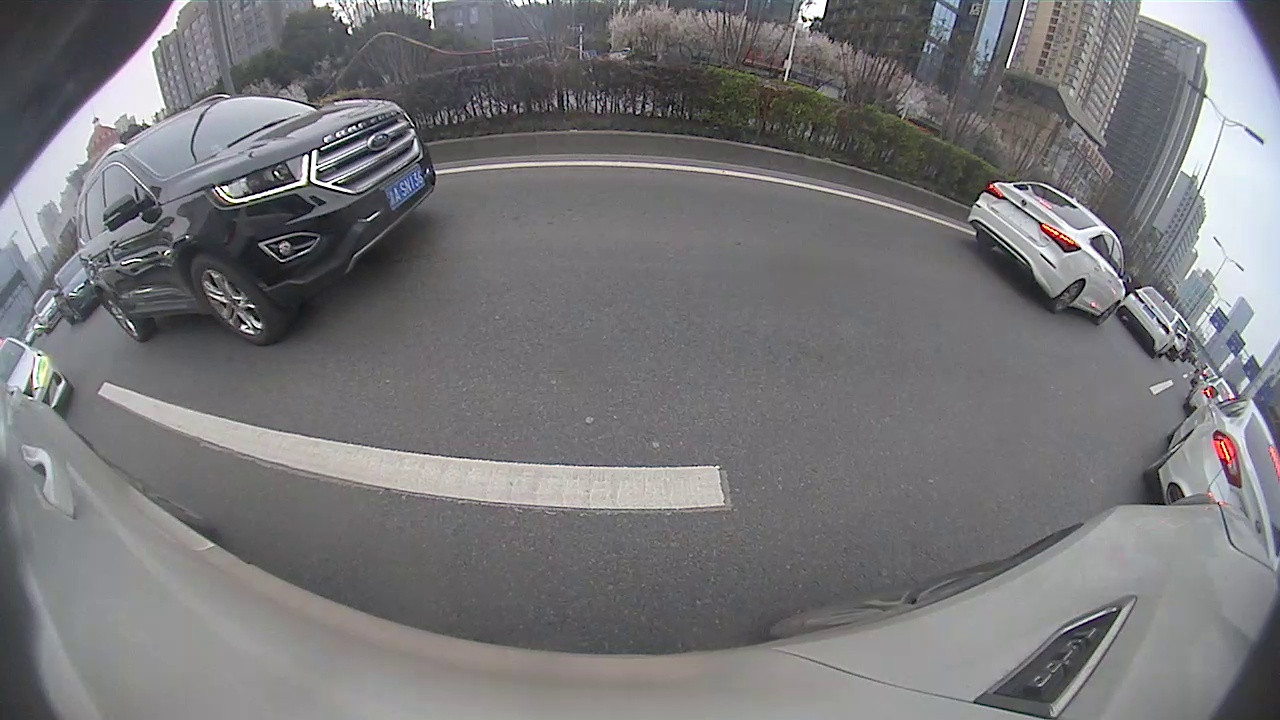car: (286, 184, 430, 264), (148, 257, 268, 328), (547, 159, 580, 184), (416, 193, 446, 208)
front: (247, 266, 263, 283), (416, 206, 428, 224)
rear: (355, 218, 375, 247), (186, 297, 202, 319)
